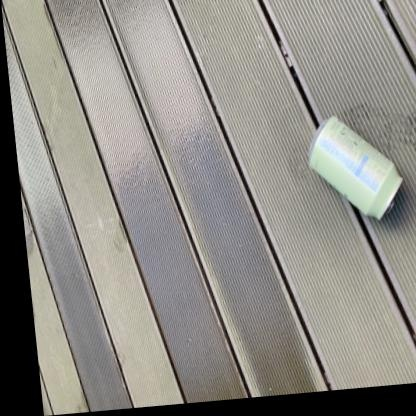trash: (309, 116, 401, 218)
